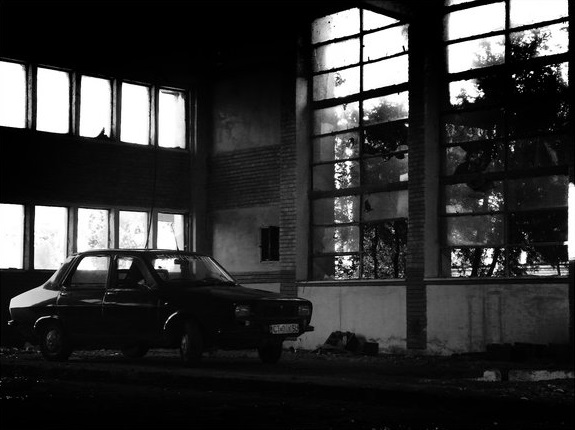car: (4, 245, 326, 375)
